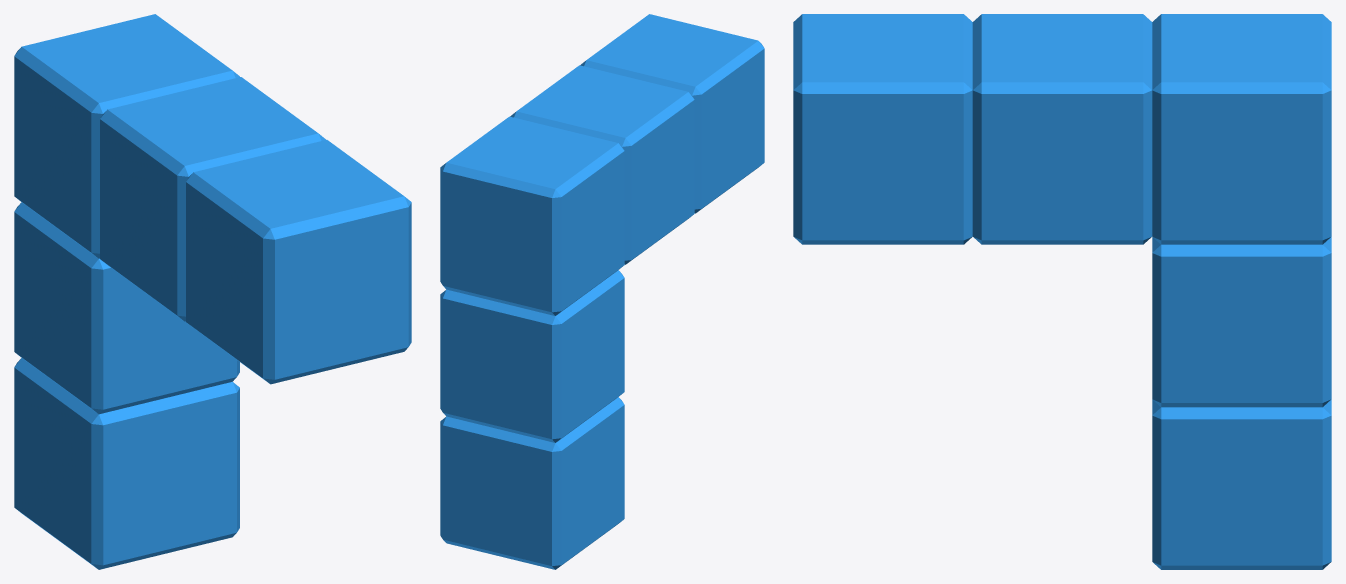
File: Ocean4.fbx
3 views of the same model, side by side, from view 1: azimuth 30°, elevation 25°; view 2: azimuth 150°, elevation 25°; view 3: azimuth 270°, elevation 25° (orthographic). The views are drawn at different scales.
Visible parts, largest first — view 1: geo1; view 2: geo1; view 3: geo1.
Boxes of the visible parts, <box> form: geo1: <box>14,14,411,569</box>; geo1: <box>440,14,764,569</box>; geo1: <box>793,14,1331,569</box>.
Bounding box in the file's own units: 1 × 3 × 3.
